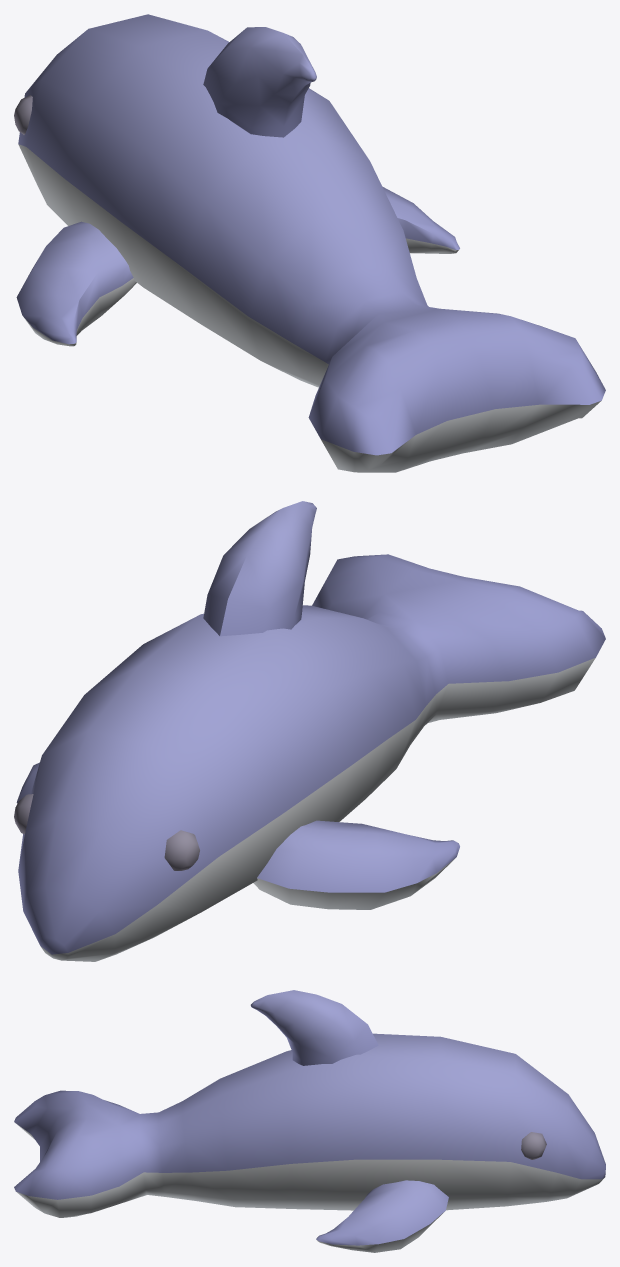
File: pool-dolphin.glb
3 renders of one model, top to bottom at view 1: azimuth 30°, elevation 25°; view 2: azimuth 150°, elevation 25°; view 3: azimuth 270°, elevation 25°, orthographic. The views are drawn at different scales.
Parts seen in each view (by area): view 1: pool-dolphin; view 2: pool-dolphin; view 3: pool-dolphin.
Boxes of the visible parts, x1,y1,x2,y2 form: pool-dolphin: (14,14,605,472); pool-dolphin: (14,501,605,961); pool-dolphin: (14,990,605,1252).
Size of the model in its own units: 0.4737 by 0.348 by 0.8918.
